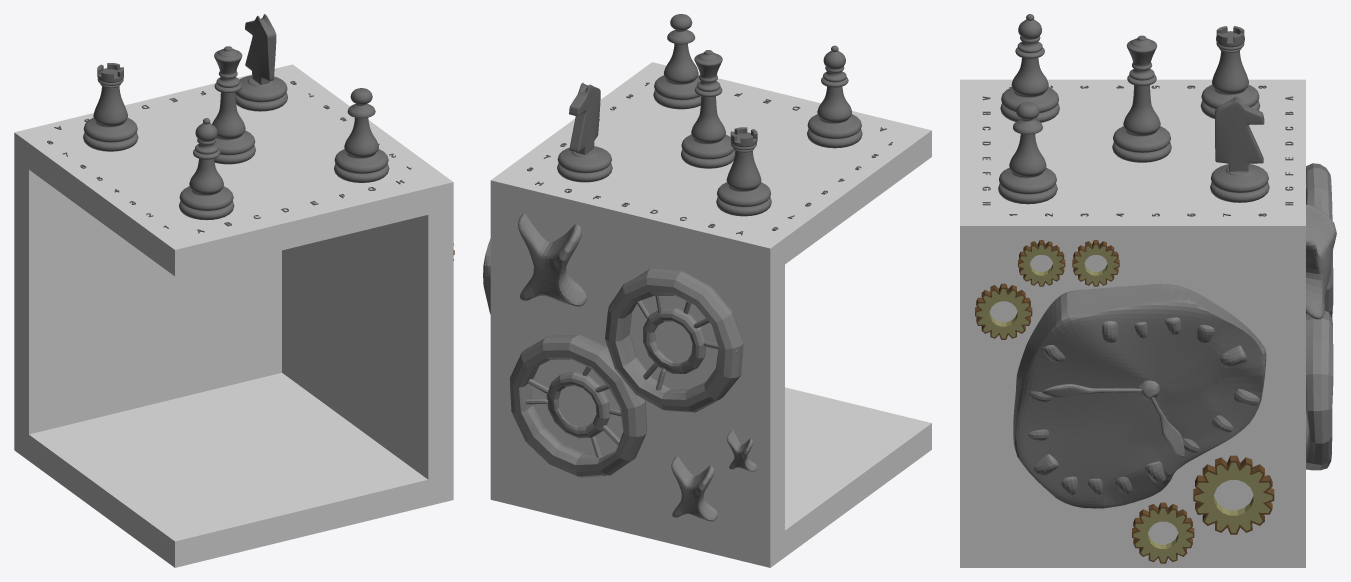
3 renders of one model, left to right at view 1: azimuth 30°, elevation 25°; view 2: azimuth 150°, elevation 25°; view 3: azimuth 270°, elevation 25°, orthographic. The views are drawn at different scales.
Visible parts, largest first — view 1: 房间.001, obj_26, obj_21, obj_18, obj_23, obj_25, obj_34; view 2: 房间.001, PM3D_Sphereinder3D_2, PM3D_Sphereinder3D_003, star002, obj_18, obj_26, obj_21, obj_25, obj_23, star, star001, obj_34; view 3: 房间.001, base_low, obj_26, points_low, PM3D_Sphereinder3D_003, obj_18, 齿轮.005, obj_23, obj_21, obj_25, star002, 齿轮.004 (+7 smaller).
Part boxes in pixels (left/top/right/bottom): 房间.001: left=14, top=64, right=453, bottom=567; obj_26: left=235, top=14, right=287, bottom=111; obj_21: left=179, top=118, right=234, bottom=220; obj_18: left=212, top=46, right=255, bottom=164; obj_23: left=334, top=88, right=389, bottom=182; obj_25: left=83, top=63, right=138, bottom=151; obj_34: left=47, top=81, right=411, bottom=233; 房间.001: left=490, top=62, right=931, bottom=567; PM3D_Sphereinder3D_2: left=605, top=268, right=743, bottom=412; PM3D_Sphereinder3D_003: left=510, top=335, right=647, bottom=477; star002: left=518, top=213, right=587, bottom=306; obj_18: left=681, top=50, right=735, bottom=168; obj_26: left=557, top=83, right=612, bottom=182; obj_21: left=807, top=45, right=862, bottom=148; obj_25: left=716, top=127, right=771, bottom=216; obj_23: left=653, top=14, right=701, bottom=109; star: left=671, top=456, right=717, bottom=521; star001: left=726, top=430, right=756, bottom=471; obj_34: left=527, top=82, right=892, bottom=235; 房间.001: left=960, top=79, right=1305, bottom=567; base_low: left=1013, top=283, right=1266, bottom=508; obj_26: left=1210, top=96, right=1269, bottom=202; points_low: left=1028, top=317, right=1259, bottom=494; PM3D_Sphereinder3D_003: left=1306, top=311, right=1333, bottom=470; obj_18: left=1112, top=35, right=1171, bottom=162; 齿轮.005: left=1193, top=455, right=1274, bottom=534; obj_23: left=998, top=102, right=1057, bottom=204; obj_21: left=1000, top=14, right=1059, bottom=122; obj_25: left=1200, top=26, right=1260, bottom=118; star002: left=1306, top=204, right=1336, bottom=319; 齿轮.004: left=1132, top=502, right=1194, bottom=563.
Bounding box in the file's own units: 981 × 1263 × 943.
